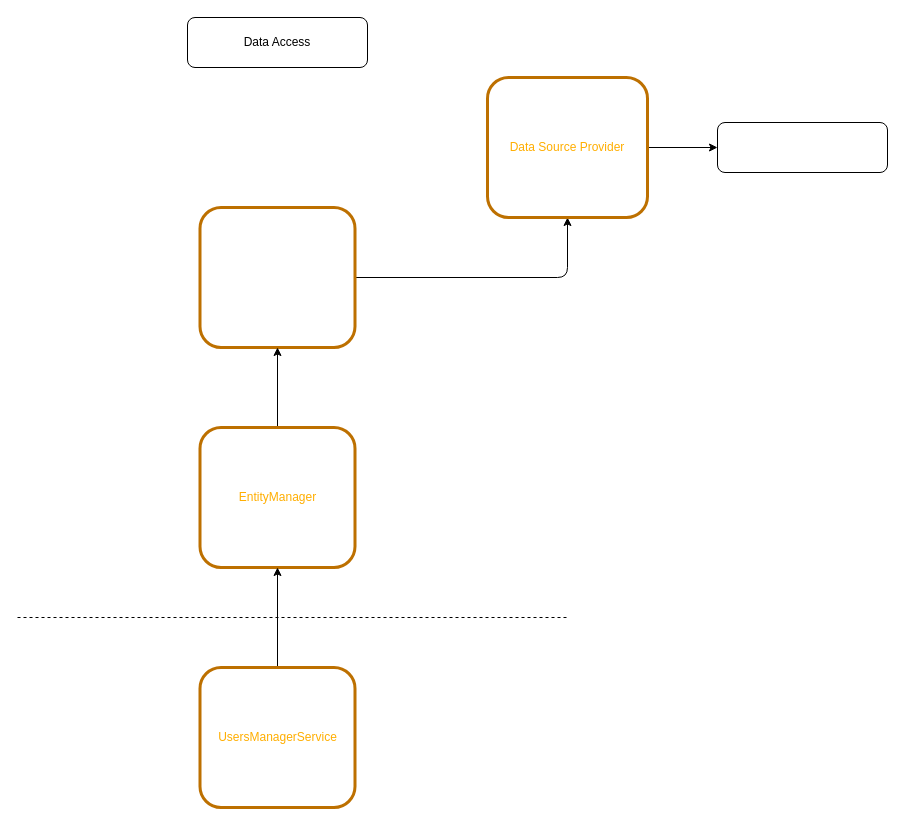
Some shapes in this 905 by 826 pixel diagram are drawn without their labels. The centre of each missing label's shape, as x and y in pixels:
Data Access Context: point 277,277
EntitySets: point 802,147
